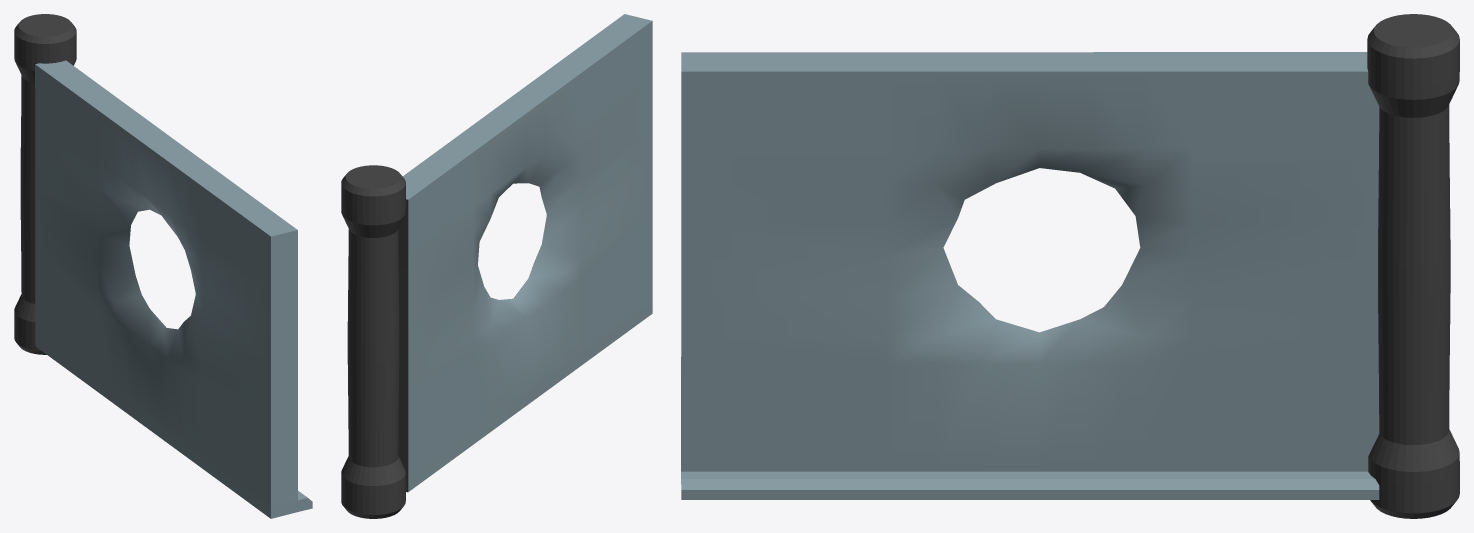
3 views of the same model, side by side, from view 1: azimuth 30°, elevation 25°; view 2: azimuth 150°, elevation 25°; view 3: azimuth 270°, elevation 25° (orthographic). The views are drawn at different scales.
Visible parts, largest first — view 1: line_wall_medium_1_pillar; view 2: line_wall_medium_1_pillar; view 3: line_wall_medium_1_pillar.
Boxes of the visible parts, left/top/right/bottom form: line_wall_medium_1_pillar: left=14, top=14, right=312, bottom=518; line_wall_medium_1_pillar: left=341, top=14, right=652, bottom=518; line_wall_medium_1_pillar: left=681, top=14, right=1459, bottom=518.
Size of the model in its own units: 157 by 881 by 1319.
